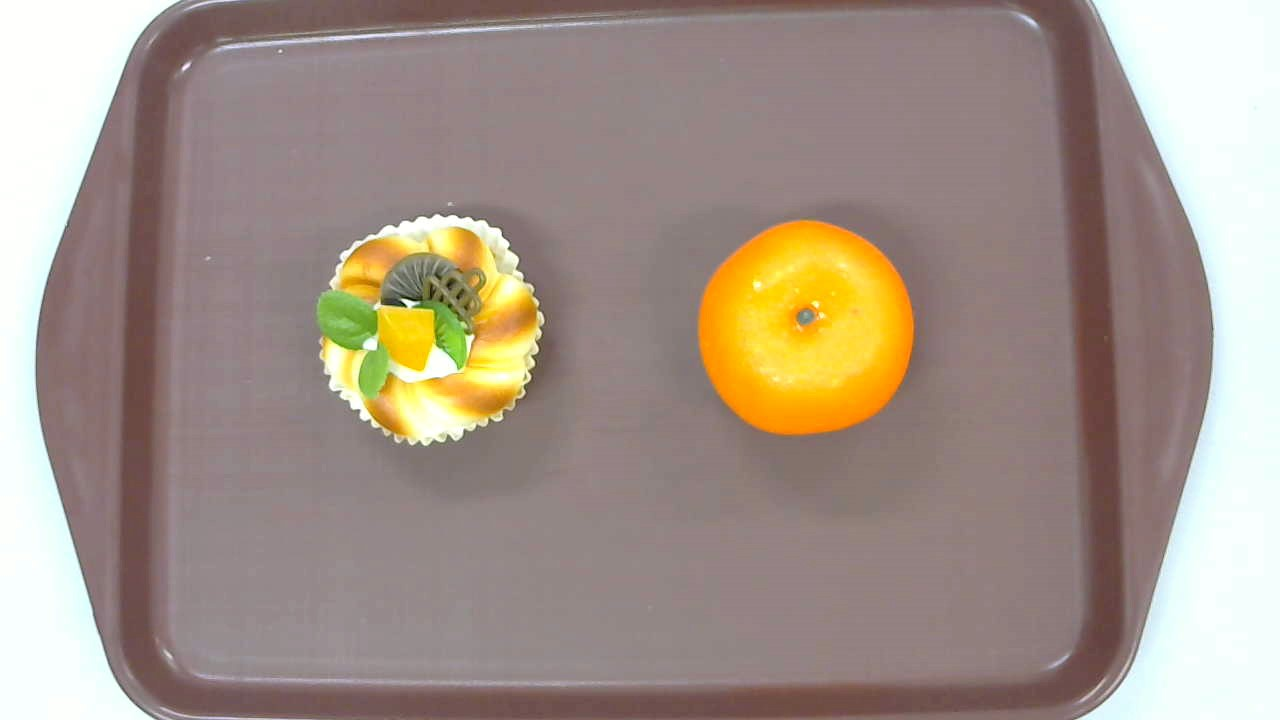fruit tart: (316, 213, 546, 447)
orange: (697, 219, 913, 438)
